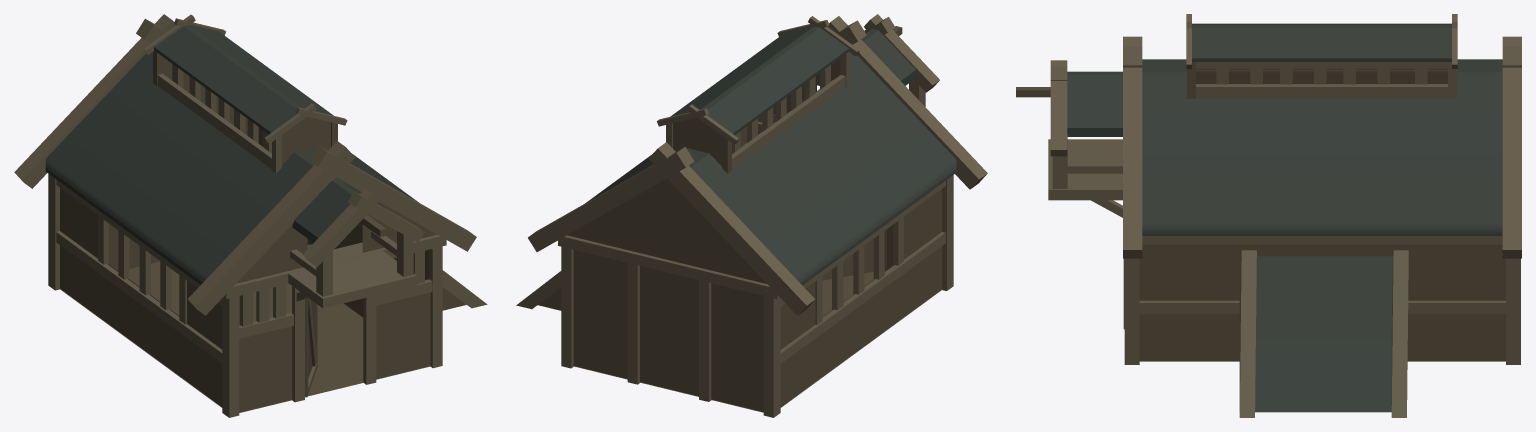
File: maison.fbx
3 renders of one model, left to right at view 1: azimuth 30°, elevation 25°; view 2: azimuth 150°, elevation 25°; view 3: azimuth 270°, elevation 25°, orthographic. The views are drawn at different scales.
Parts seen in each view (by area): view 1: maison_viking; view 2: maison_viking; view 3: maison_viking.
Boxes of the visible parts, bbox=[...] form: maison_viking: bbox=[14, 14, 487, 417]; maison_viking: bbox=[516, 14, 987, 417]; maison_viking: bbox=[1016, 14, 1521, 417].
Bounding box in the file's own units: 101 × 74.08 × 117.
